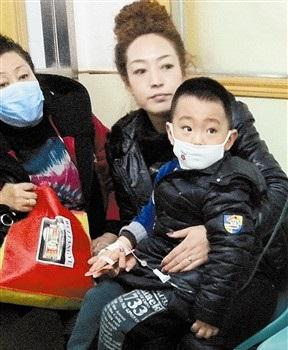NONE: (131, 52, 181, 109)
OK: (1, 61, 45, 127)
WRONG: (171, 112, 228, 169)
